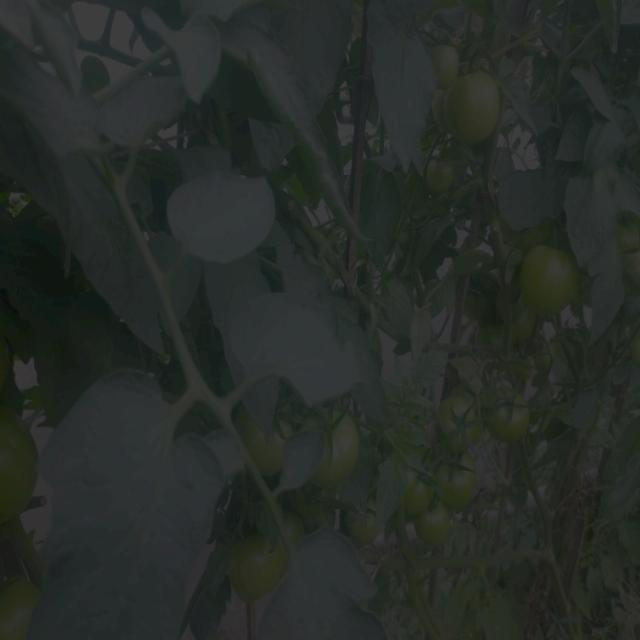tomato: (403, 455, 479, 553), (218, 529, 295, 601), (2, 406, 41, 530), (524, 241, 585, 318), (457, 278, 519, 350), (306, 417, 365, 489), (239, 414, 296, 484), (448, 80, 505, 143), (1, 572, 48, 640), (488, 389, 532, 447), (437, 400, 479, 450), (421, 153, 460, 197), (343, 505, 381, 549), (615, 212, 640, 261), (522, 355, 555, 384), (433, 46, 461, 78), (431, 89, 446, 136), (624, 335, 640, 368), (2, 345, 12, 392)
